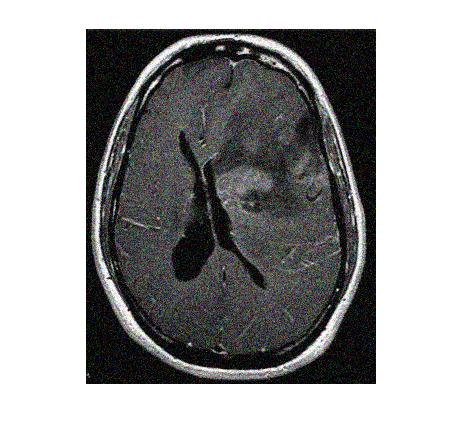Brain_Cancer: (216, 157, 275, 210)
